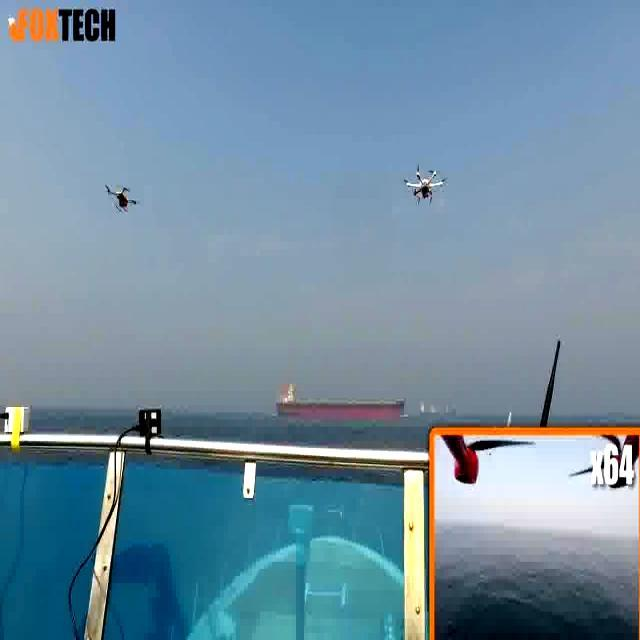drone: (396, 161, 448, 205), (103, 176, 139, 224)
